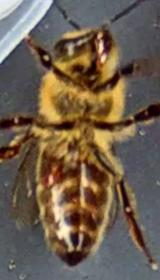varroa_mite: (28, 150, 68, 191)
